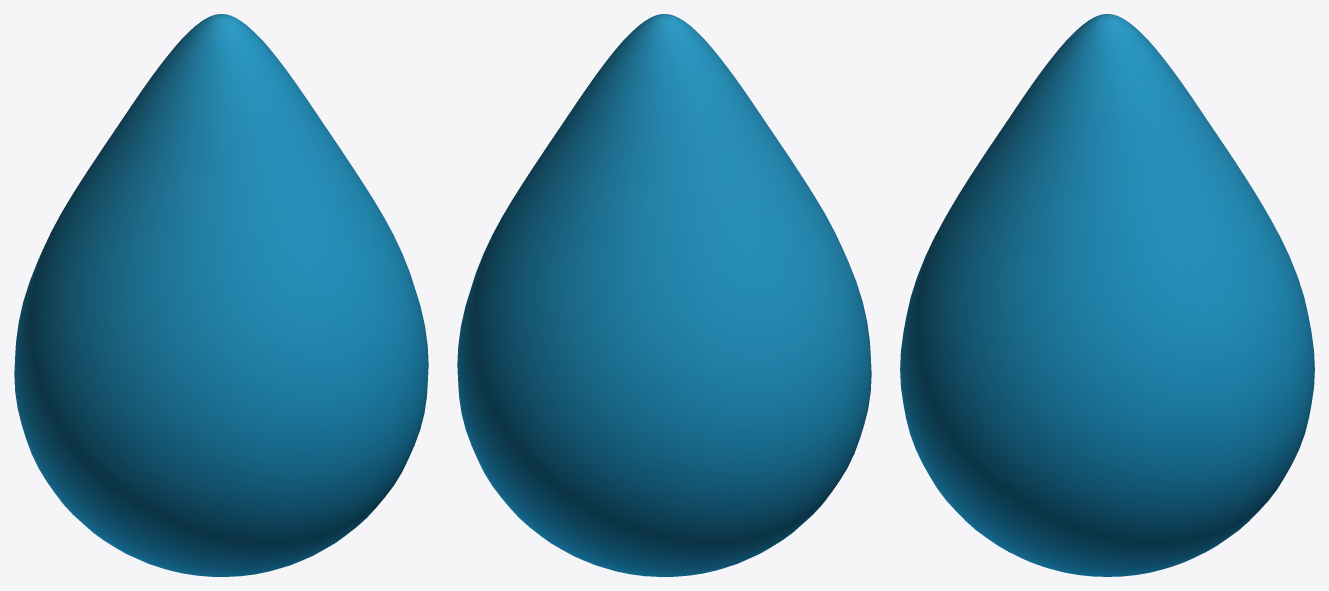
Rendered from Water drop.glb.
3 views of the same model, side by side, from view 1: azimuth 30°, elevation 25°; view 2: azimuth 150°, elevation 25°; view 3: azimuth 270°, elevation 25° (orthographic).
Visible parts, largest first — view 1: water.1; view 2: water.1; view 3: water.1.
Part boxes in pixels (bbox=[...]): water.1: bbox=[14, 14, 428, 576]; water.1: bbox=[457, 14, 871, 576]; water.1: bbox=[900, 14, 1314, 576].
Size of the model in its own units: 0.0325 by 0.0469 by 0.0325.
1 material, 1 textured.
